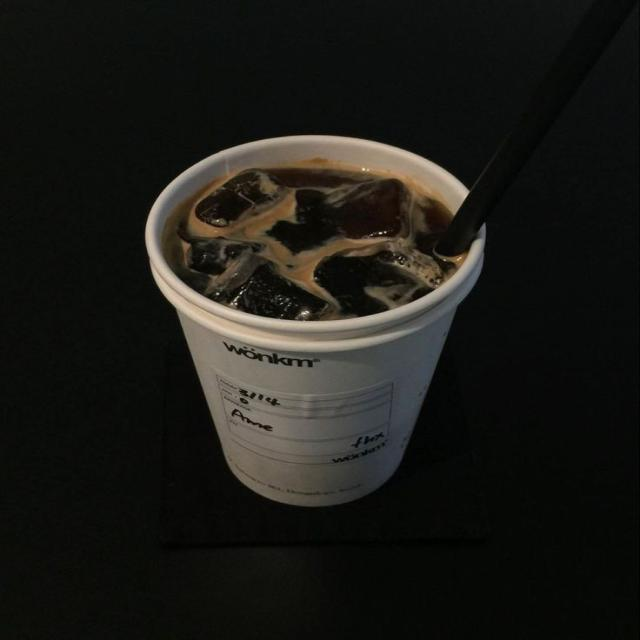paper cup: (146, 134, 488, 508)
